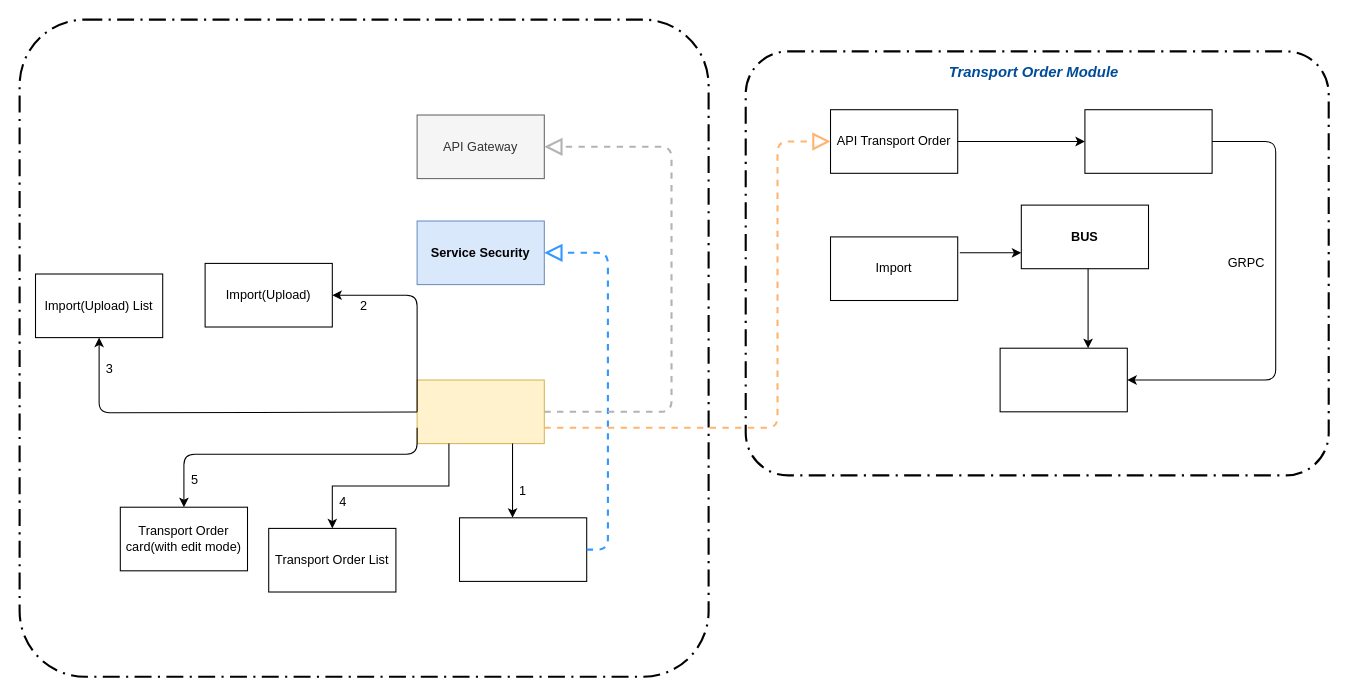
This 1347x695 diagram has some shape labels left out. The shapes that lost their labels are listed below. From the top down, each one's centre as x and y in pixels, then its label:
(1148,141): Database
(1063,379): Transport Order (Add DB)
(480,411): UI Interface
(522,549): Login
